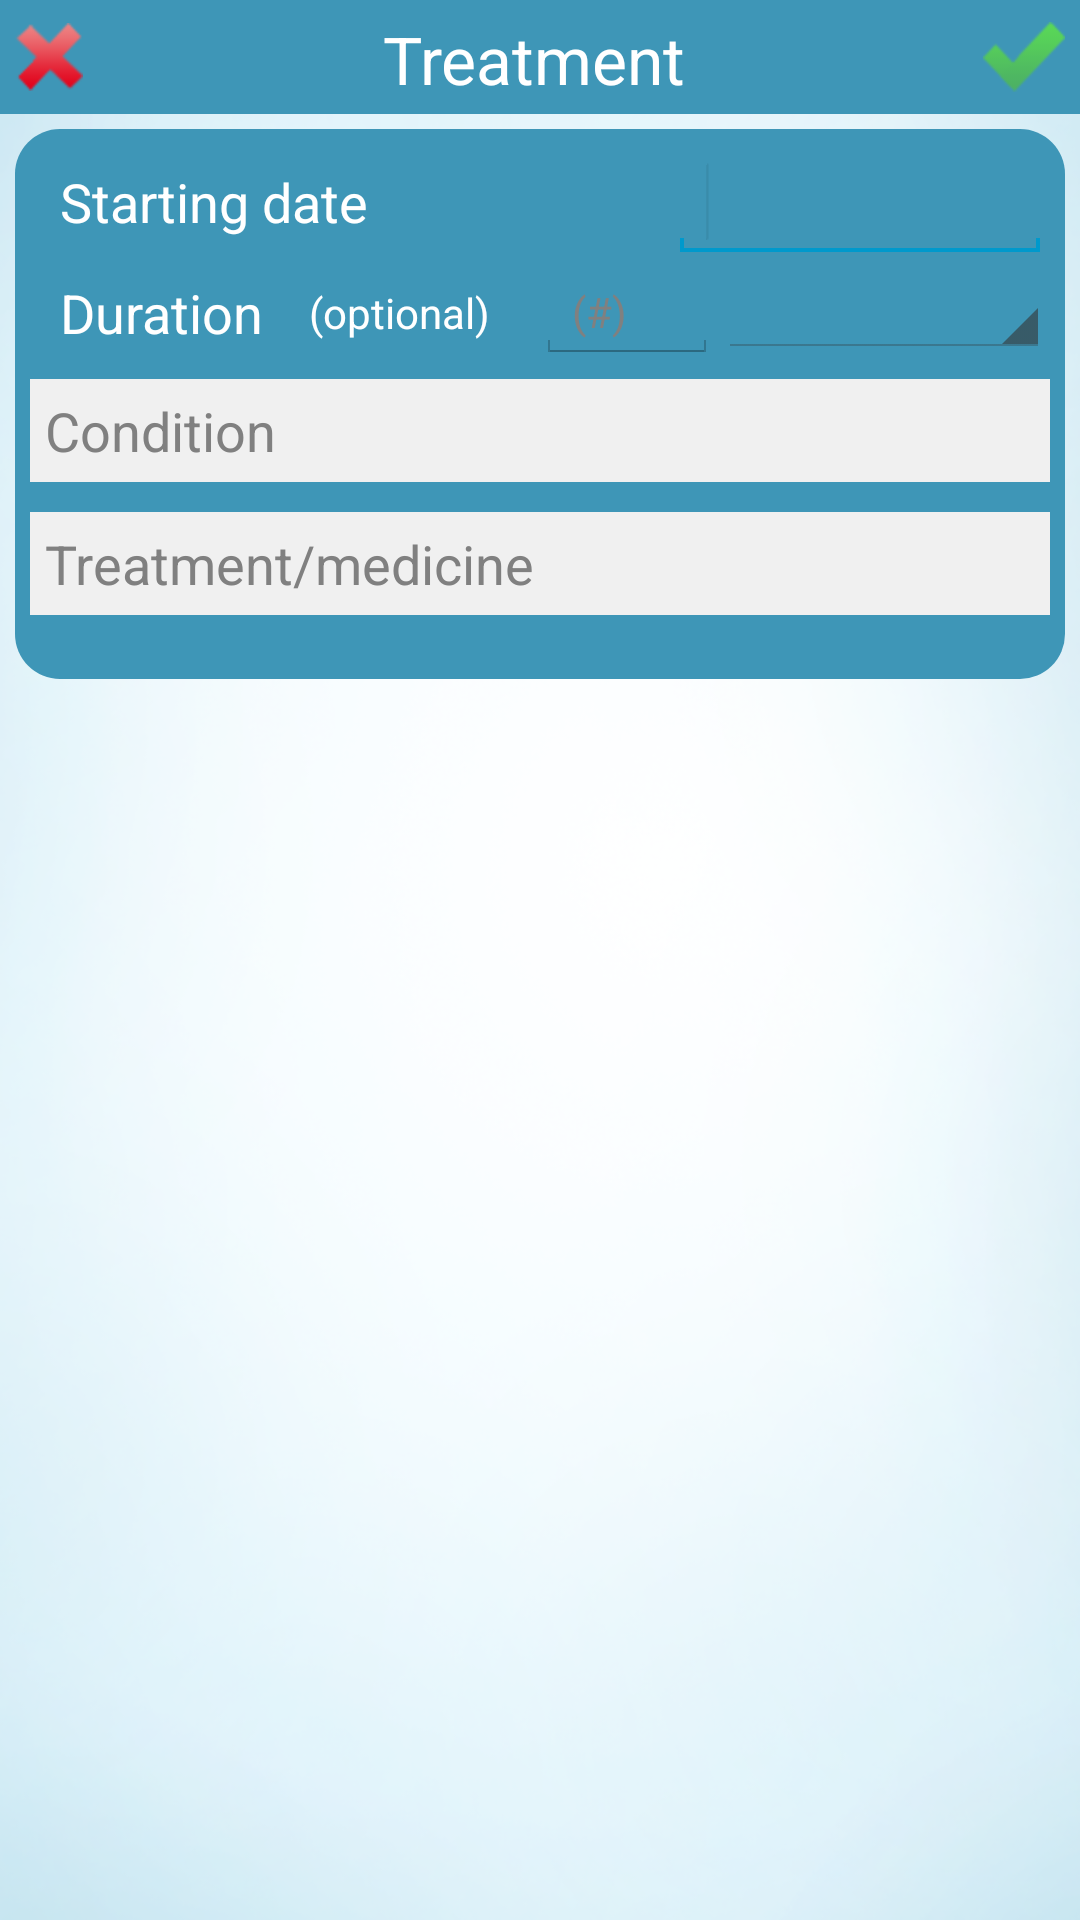

Named icons in this screenshot (1080 x 1920) and their bounding boxes, box=[x1, y1, x2, y2]:
check buttonless on: box=[983, 22, 1065, 91]
check delete: box=[16, 23, 83, 91]
